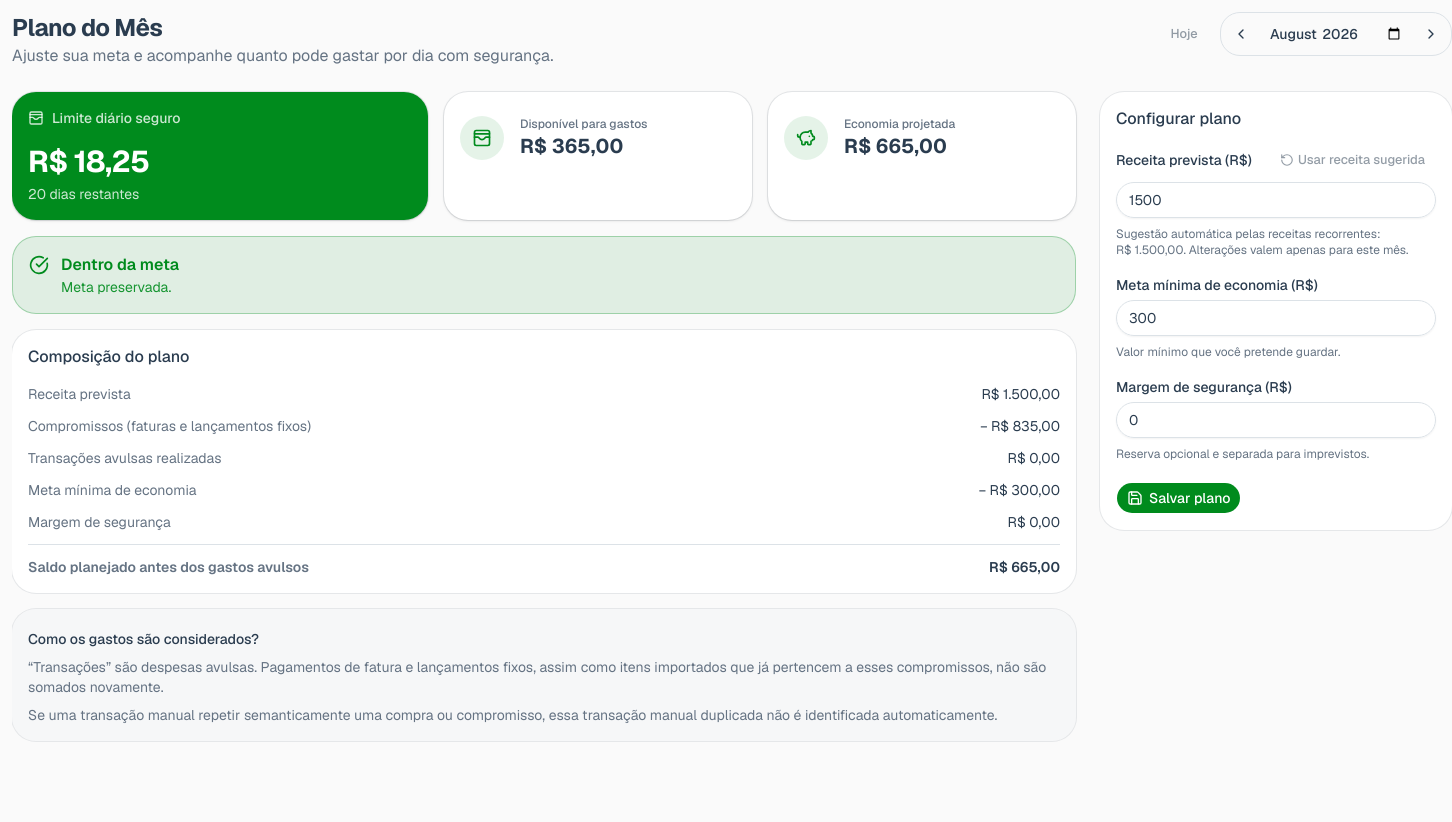
Test: MonthlyPlanPage › busca o mês atual e substitui a projeção ao trocar o mês
Expected: the text "R$ 18,25" is shown, [28,142,150,181]
Click the button named "próximo mês": click(1431, 34) [1415,18,1447,50]
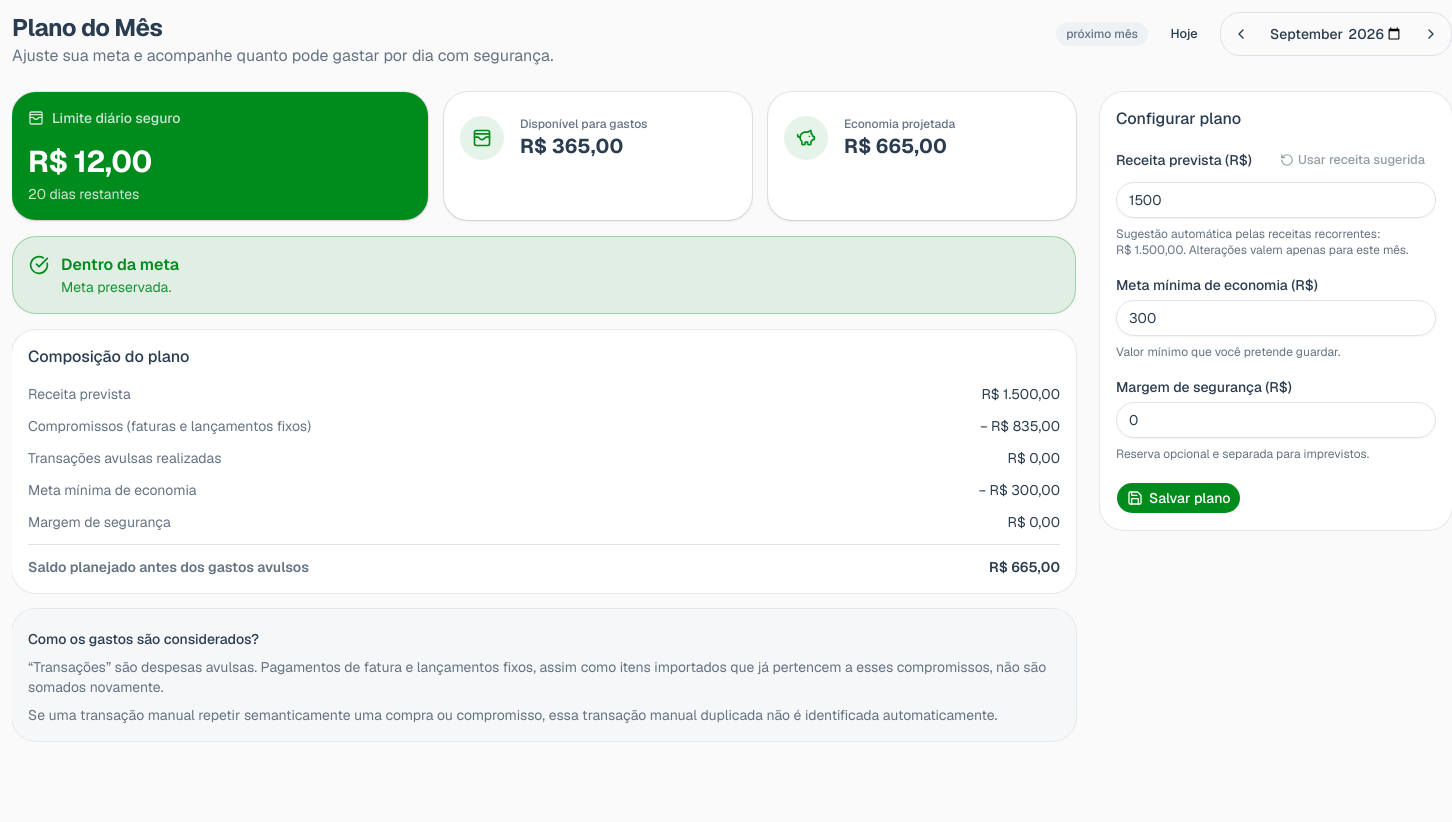
Result: the text "R$ 12,00" is shown at [28,142,152,181]
